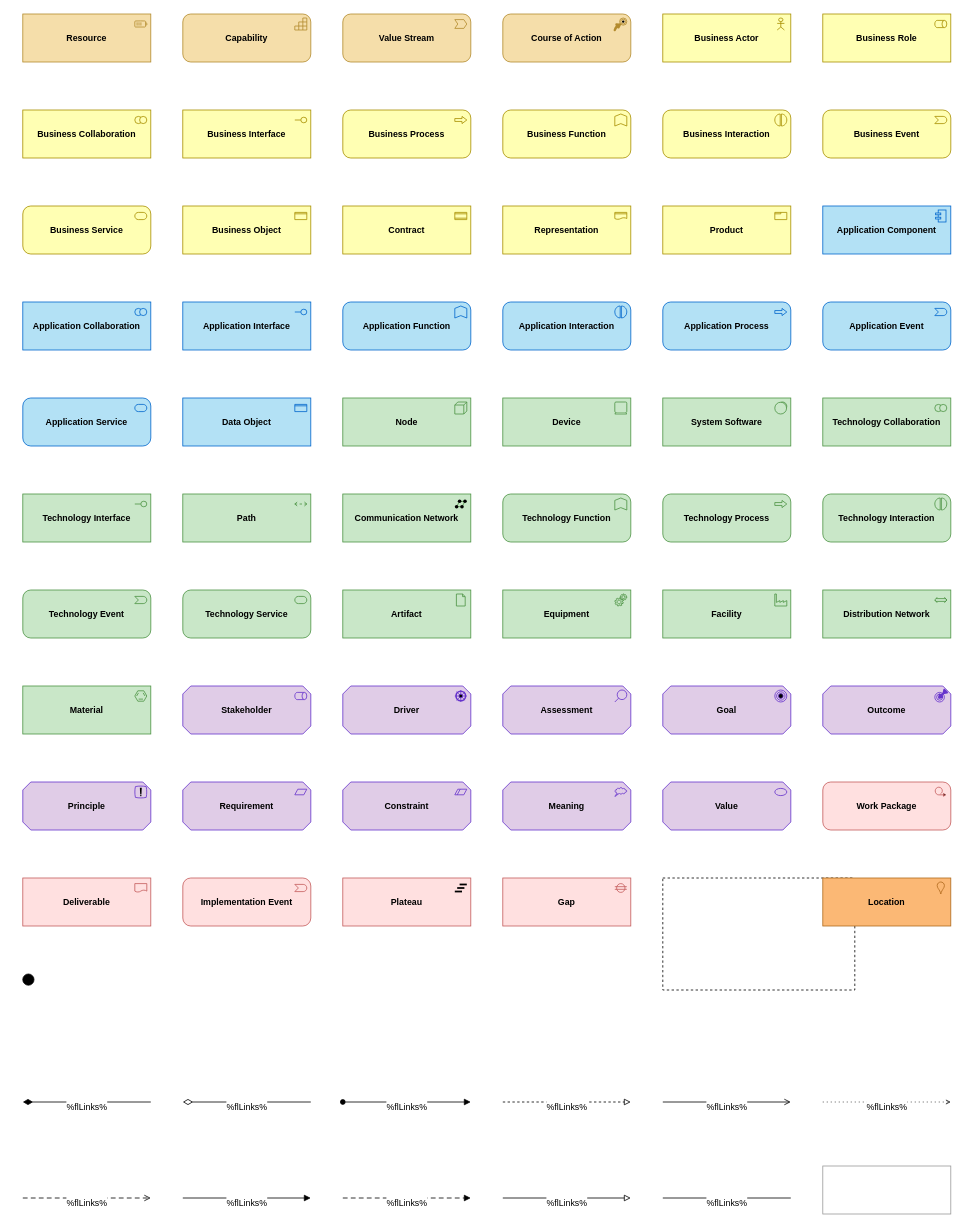
This 970x1228 diagram has some shape labels left out. The box of each missing label's shape, as (x1, y1, x2, y2) in pixels:
Grouping: (662, 877, 855, 990)
Unknown kind: (822, 1165, 951, 1214)
